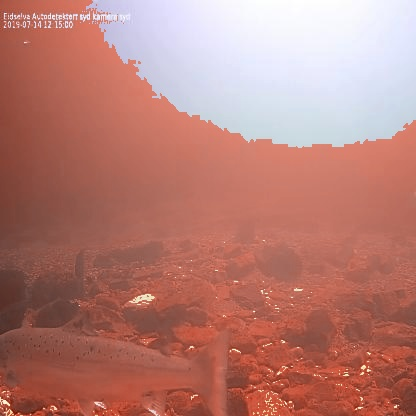salmon: (0, 307, 236, 415)
